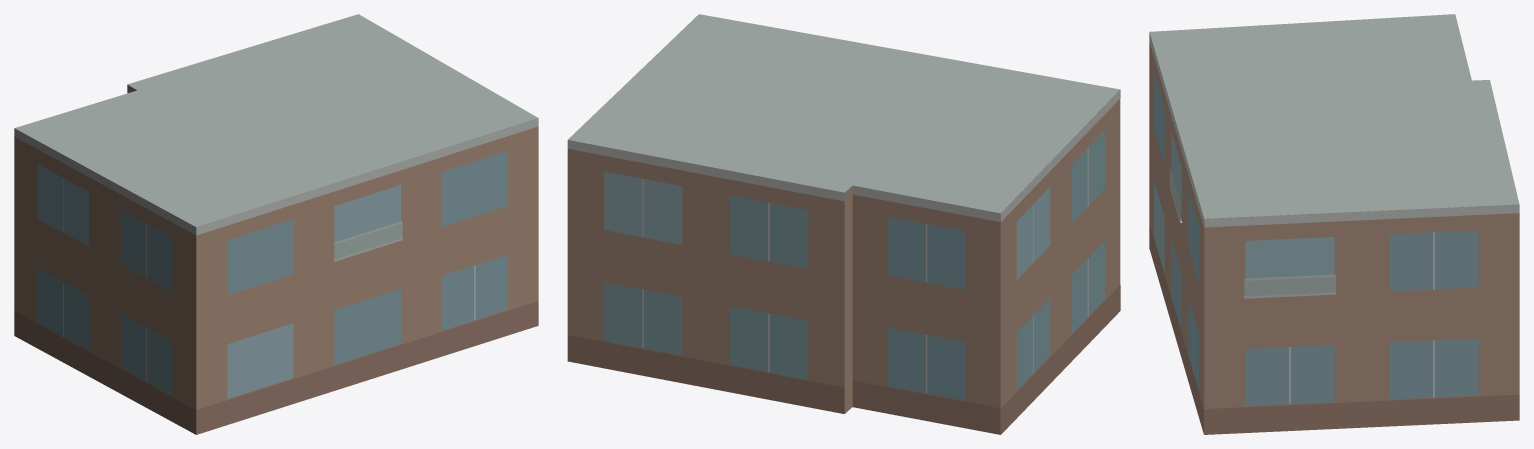
The model's file is survey-upis-32657893.glb.
3 renders of one model, left to right at view 1: azimuth 30°, elevation 25°; view 2: azimuth 150°, elevation 25°; view 3: azimuth 270°, elevation 25°, orthographic. The views are drawn at different scales.
Visible parts, largest first — view 1: survey-upis-32657893.tmp; view 2: survey-upis-32657893.tmp; view 3: survey-upis-32657893.tmp.
Part boxes in pixels (x1,y1,x2,y2): survey-upis-32657893.tmp: (14,14,538,434); survey-upis-32657893.tmp: (567,14,1120,434); survey-upis-32657893.tmp: (1149,14,1519,434).
Size of the model in its own units: 12.42 by 6.1 by 9.49.
